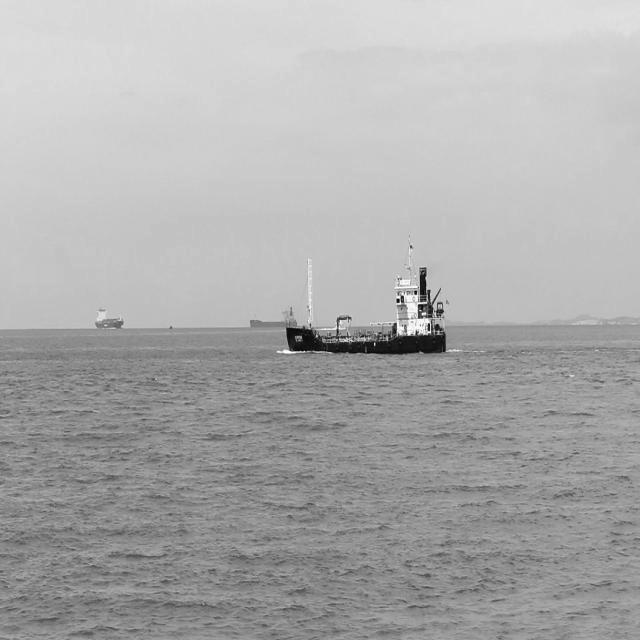ship: (282, 231, 448, 355), (250, 299, 300, 329), (95, 301, 126, 329), (332, 312, 346, 328)
